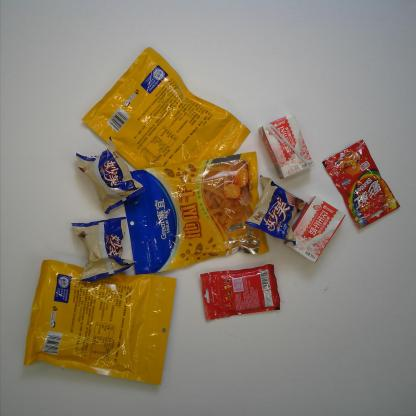Candy: (322, 138, 401, 230), (199, 264, 281, 322)
Dessert: (74, 136, 145, 216), (244, 175, 309, 247), (71, 216, 137, 282)
Dried Fruit: (81, 46, 252, 171), (22, 259, 176, 386), (124, 150, 272, 275)
Milk: (282, 196, 346, 264), (258, 113, 315, 180)
